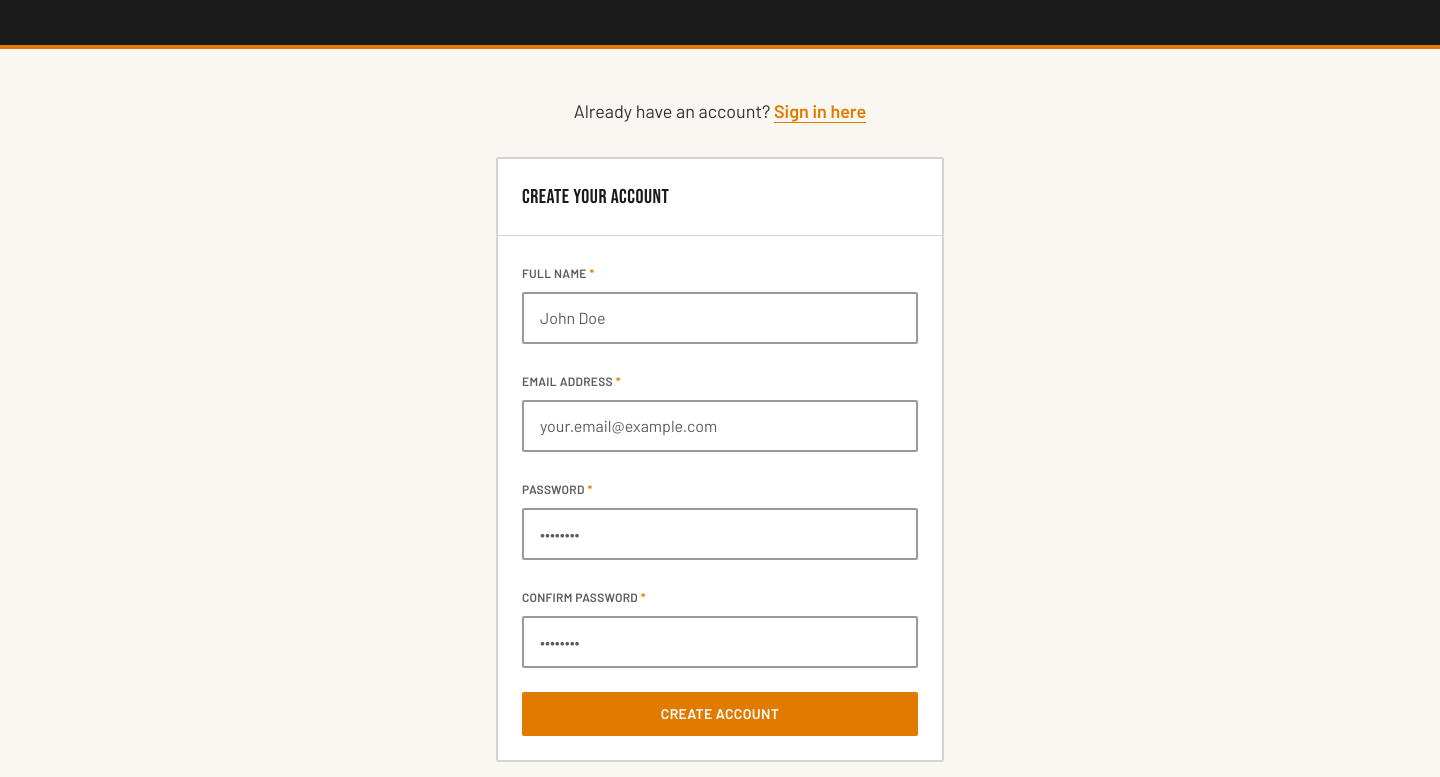
SignupPage - Industrial Design System › Form State - Error States › should highlight inputs with errors
The width and height of the screenshot is (1440, 777).
(page scrolled)
Click the button "Create Account" at (720, 714), box [522,692,918,736]
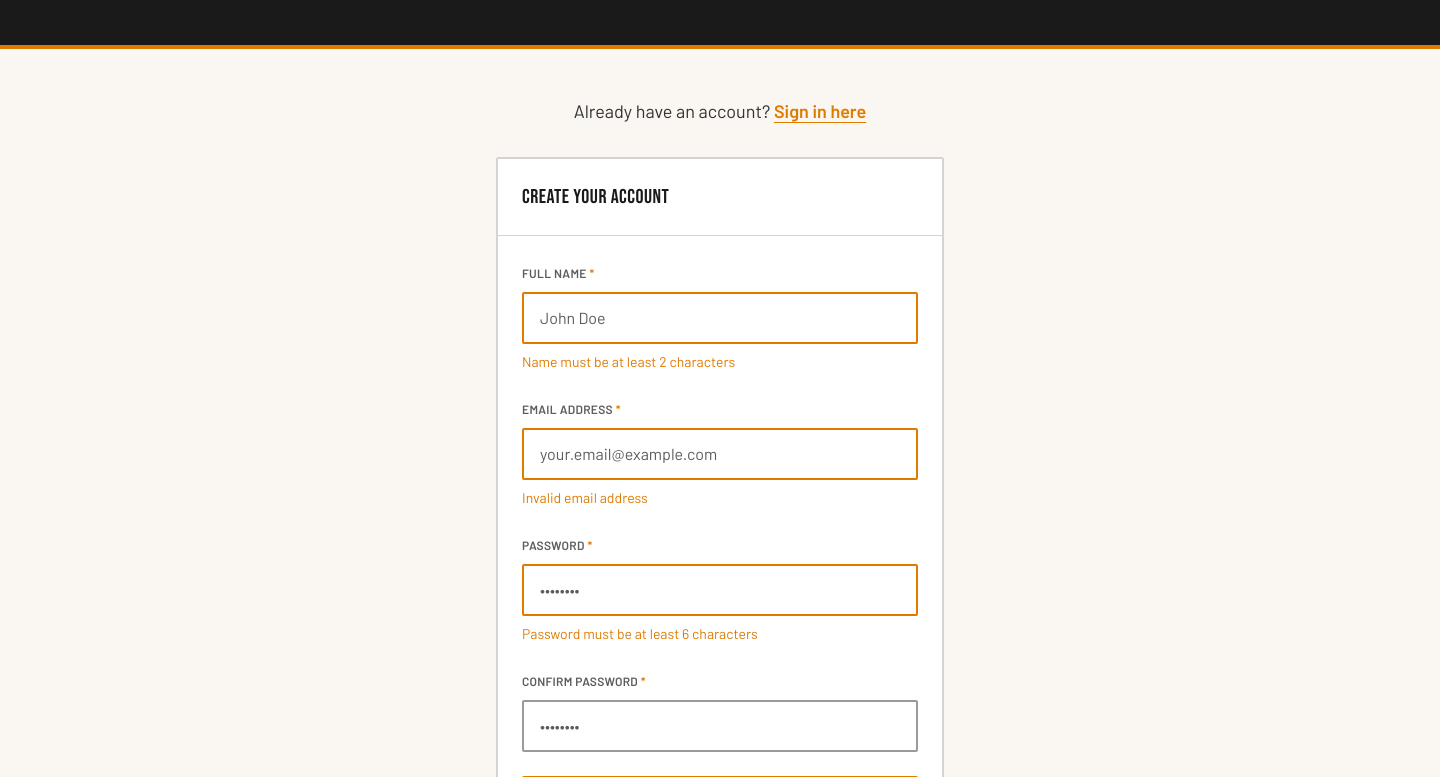
Check: the field with placeholder "your.email@example.com" has class "border-industrial-orange", box [522,428,918,480]
